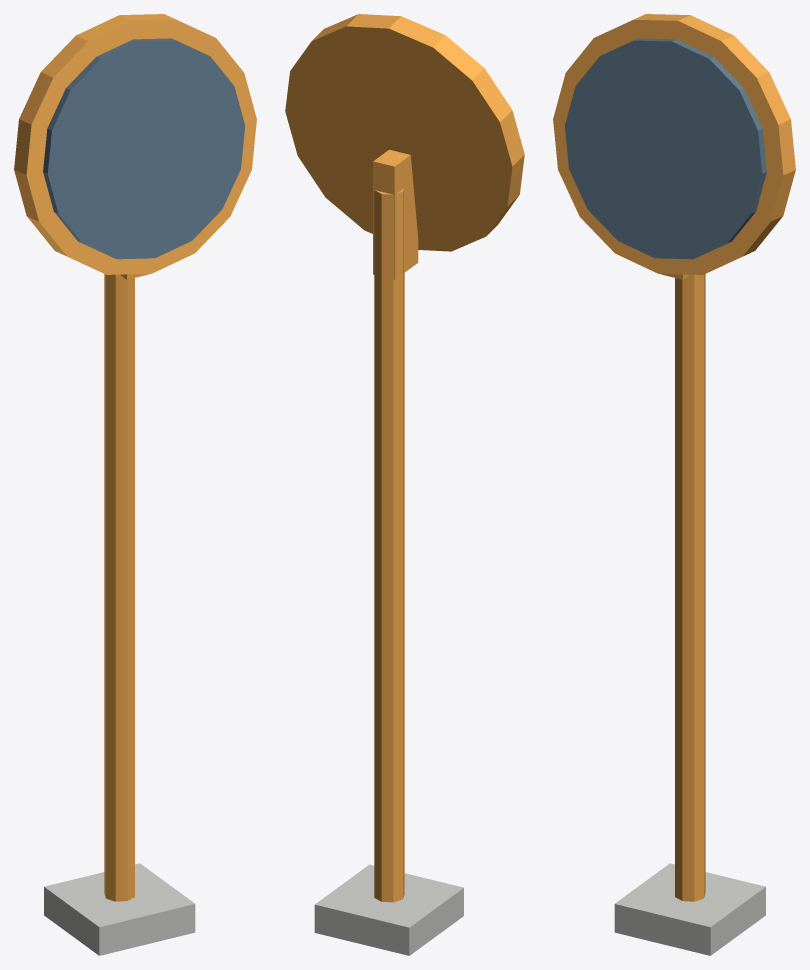
File: curve_mirror.glb
3 views of the same model, side by side, from view 1: azimuth 30°, elevation 25°; view 2: azimuth 150°, elevation 25°; view 3: azimuth 330°, elevation 25° (orthographic).
Parts seen in each view (by area): view 1: curve_mirror; view 2: curve_mirror; view 3: curve_mirror.
Part boxes in pixels (box(x1,y1,x2,y2)): curve_mirror: box(14, 14, 256, 955); curve_mirror: box(285, 14, 524, 955); curve_mirror: box(553, 14, 795, 955).
Bounding box in the file's own units: 0.84 × 3.18 × 0.3977.
